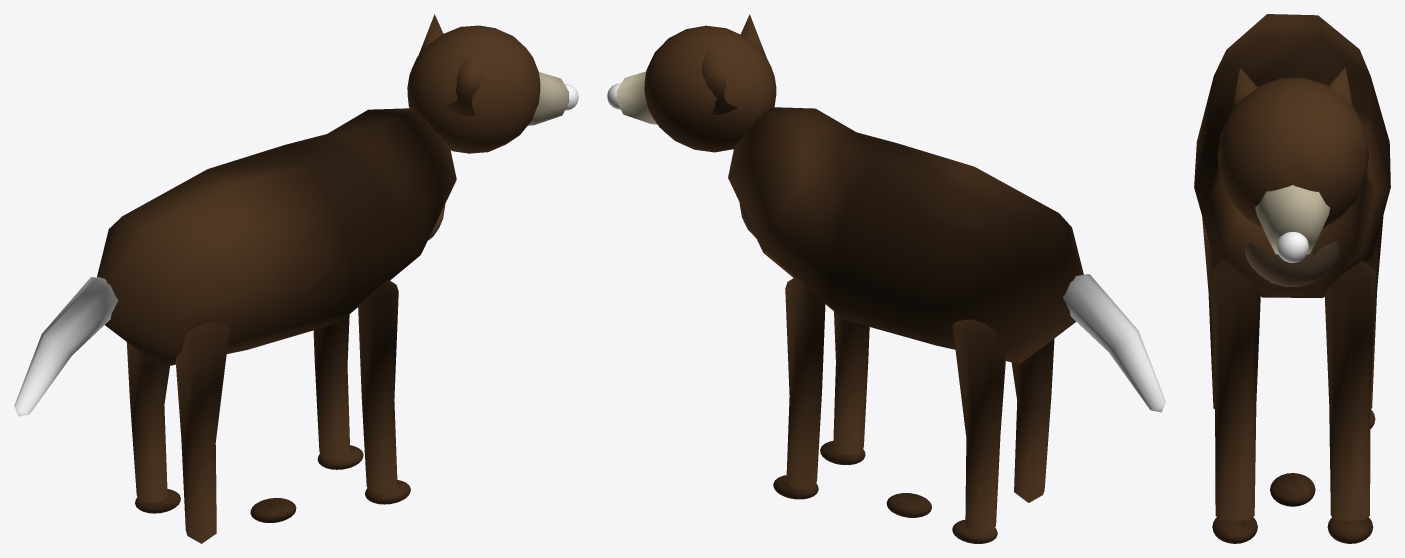
The model's file is coyote.obj.
The picture shows the model from 3 angles, left to right: view 1: azimuth 30°, elevation 25°; view 2: azimuth 150°, elevation 25°; view 3: azimuth 270°, elevation 25°; orthographic projection. The views are drawn at different scales.
Visible parts, largest first — view 1: coyote; view 2: coyote; view 3: coyote.
Boxes of the visible parts, left/top/right/bottom form: coyote: left=14, top=14, right=578, bottom=543; coyote: left=607, top=14, right=1165, bottom=543; coyote: left=1194, top=14, right=1390, bottom=543.
Bounding box in the file's own units: 1.45 × 1.1 × 0.3618.
